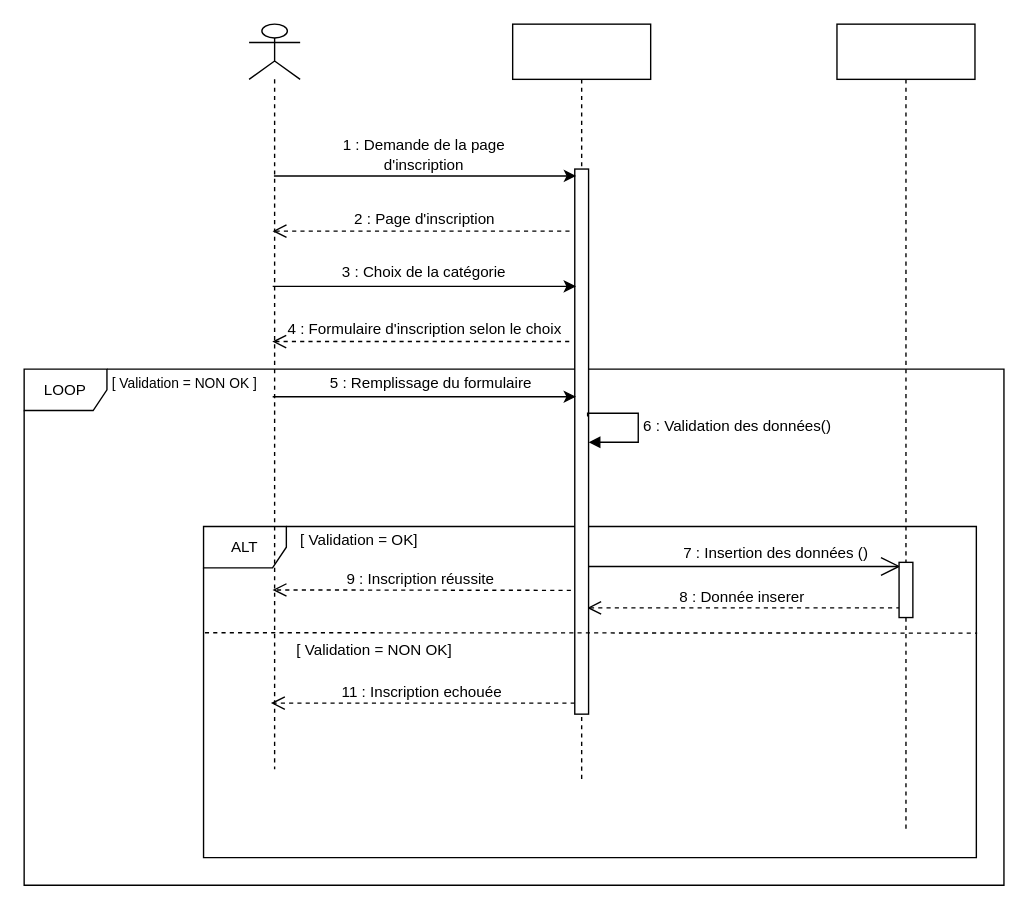
The diagram is 1028 pixels wide and 909 high, and some of its shapes have lost their labels. The shapes that lost their labels are listed below. From the top down, each one's box as (x1, y1, x2, y2) in pixels, then its label:
(511, 23, 651, 783): Systéme
(836, 23, 975, 829): BDD
